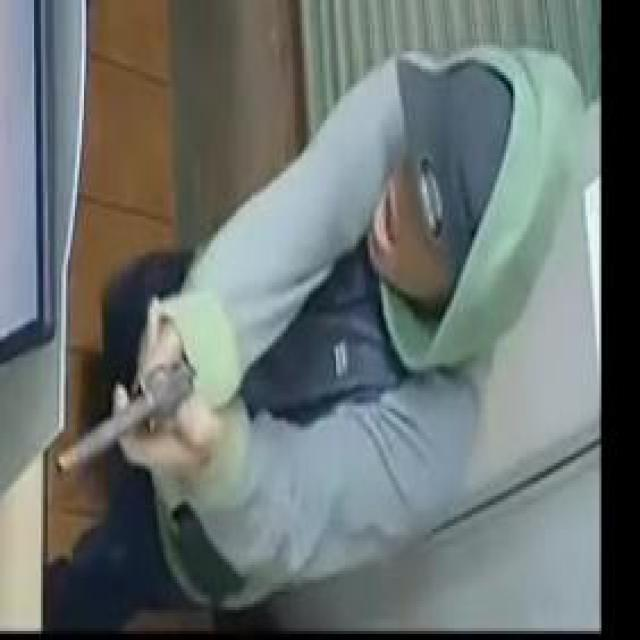gun: (54, 340, 204, 480)
